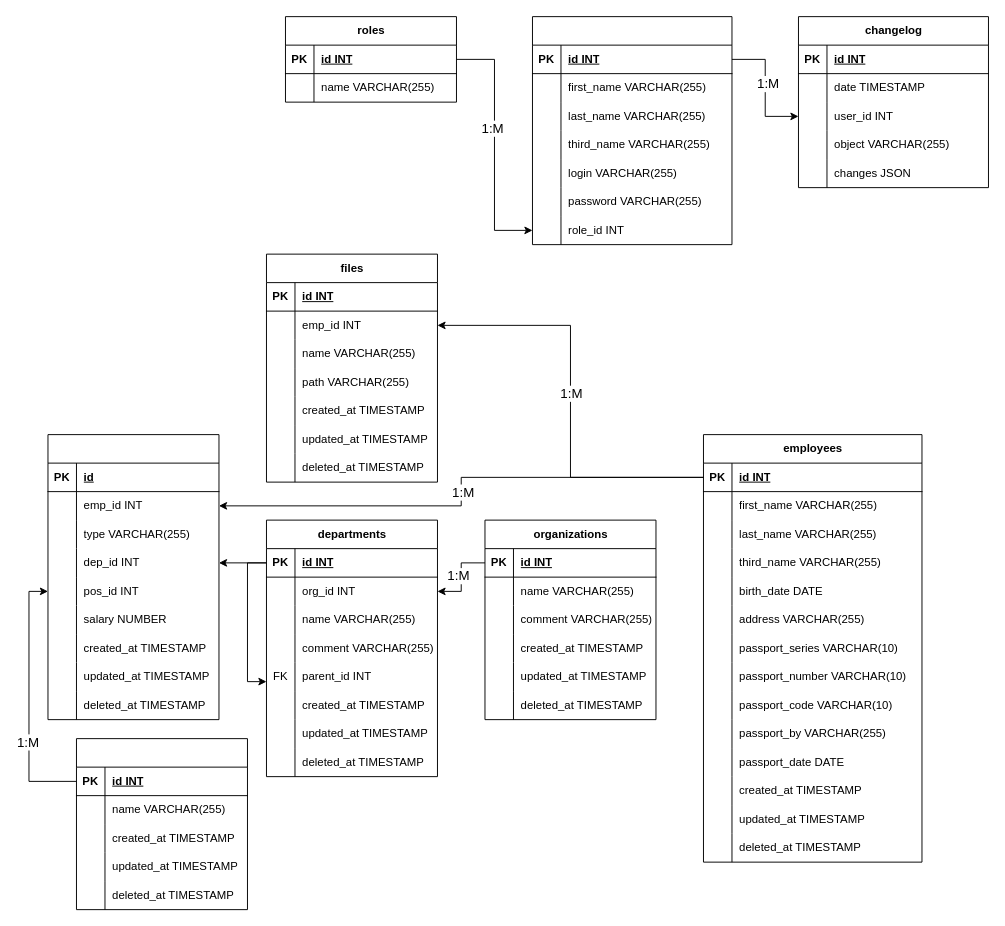
This 1005x926 diagram has some shape labels left out. Here are the shapes that lost their labels. From the top down, the box of each, then its label:
(532, 16, 732, 245): users
(47, 434, 219, 720): hr_operations
(76, 738, 247, 910): positions
